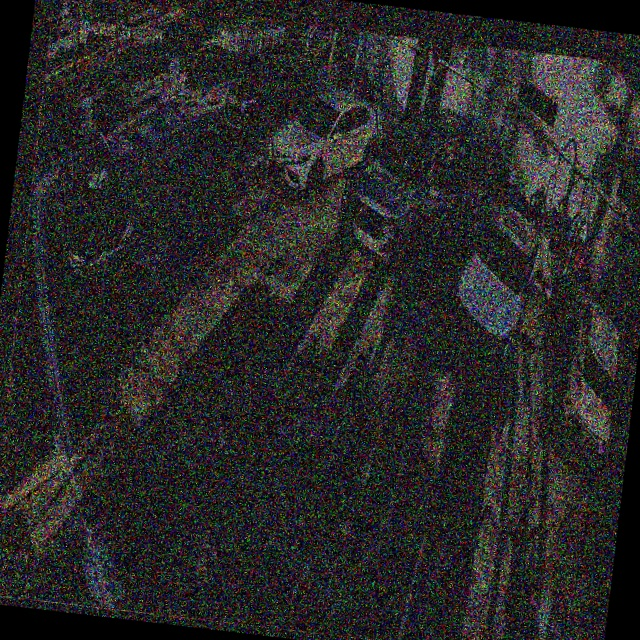Car: (333, 101, 477, 282), (444, 204, 547, 367), (266, 81, 387, 193)
